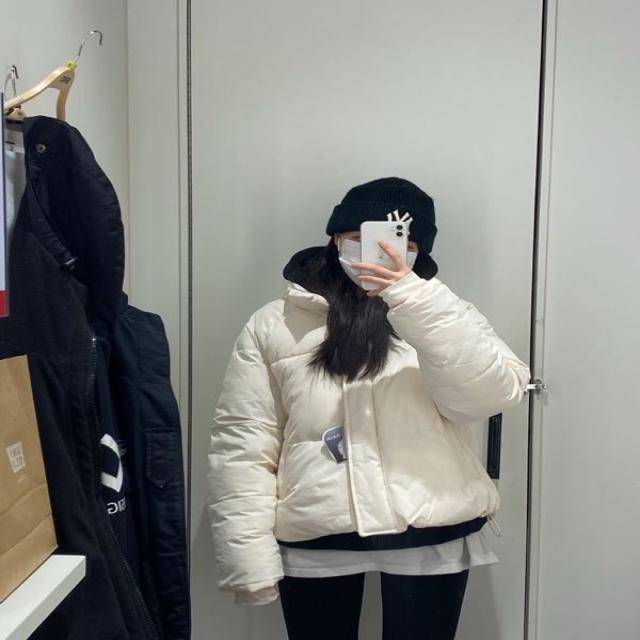padding: (204, 271, 528, 598)
